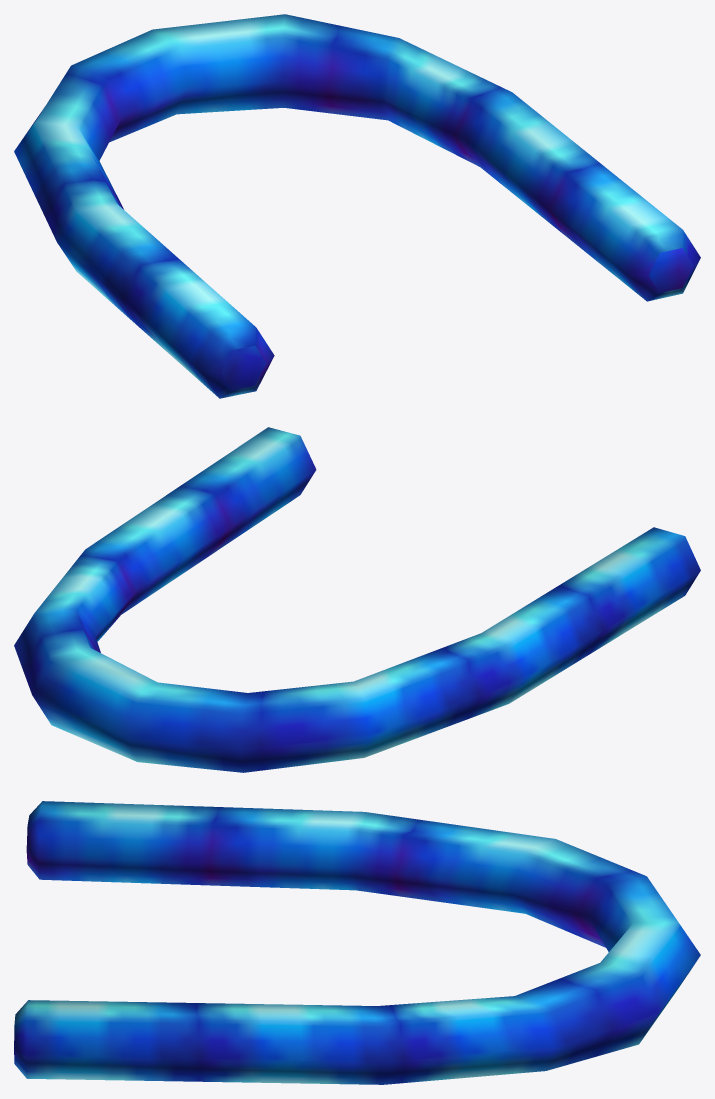
Rendered from furni_0200468.FBX.
The picture shows the model from 3 angles, top to bottom: view 1: azimuth 30°, elevation 25°; view 2: azimuth 150°, elevation 25°; view 3: azimuth 270°, elevation 25°; orthographic projection. The views are drawn at different scales.
Visible parts, largest first — view 1: furni_0200468; view 2: furni_0200468; view 3: furni_0200468.
Part boxes in pixels (left/top/right/bottom): furni_0200468: left=14, top=14, right=700, bottom=398; furni_0200468: left=14, top=427, right=700, bottom=772; furni_0200468: left=14, top=801, right=700, bottom=1084.
Size of the model in its own units: 48.38 by 6.77 by 58.89.
1 material, 1 textured.
